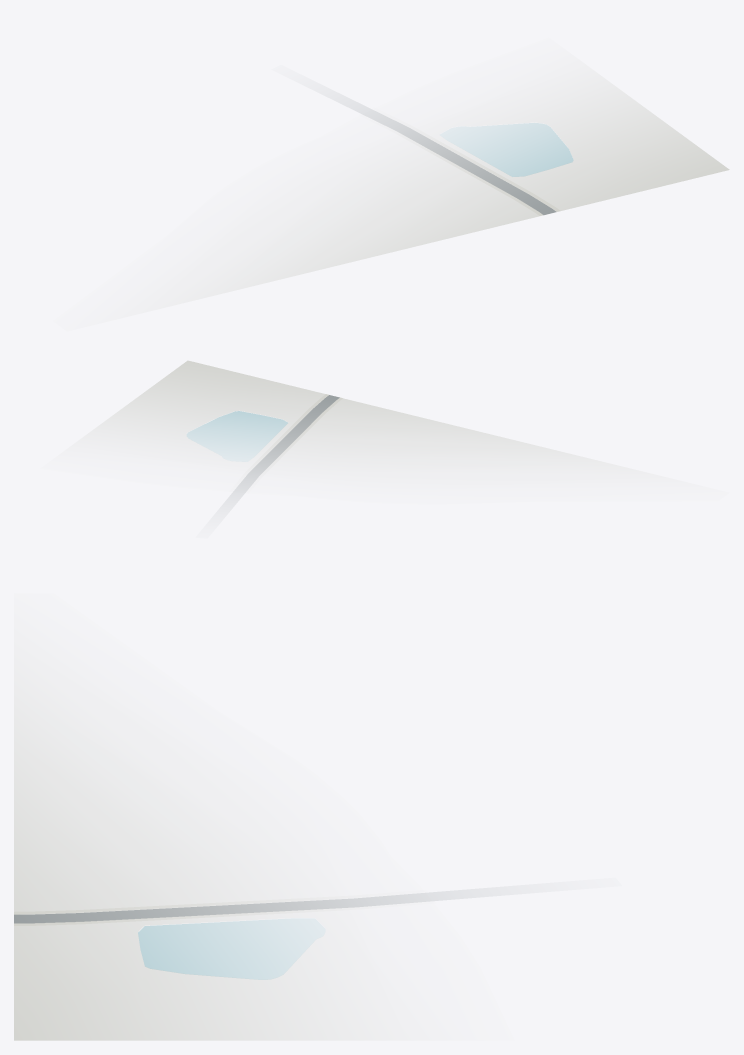
3 views of the same model, one above another, from view 1: azimuth 30°, elevation 25°; view 2: azimuth 150°, elevation 25°; view 3: azimuth 270°, elevation 25° (orthographic). The views are drawn at different scales.
Visible parts, largest first — view 1: city; view 2: city; view 3: city.
Boxes of the visible parts, x1,y1,x2,y2 form: city: (169, 71, 729, 305); city: (79, 360, 644, 501); city: (14, 661, 467, 1040).
Size of the model in its own units: 500 by 0.4 by 338.
